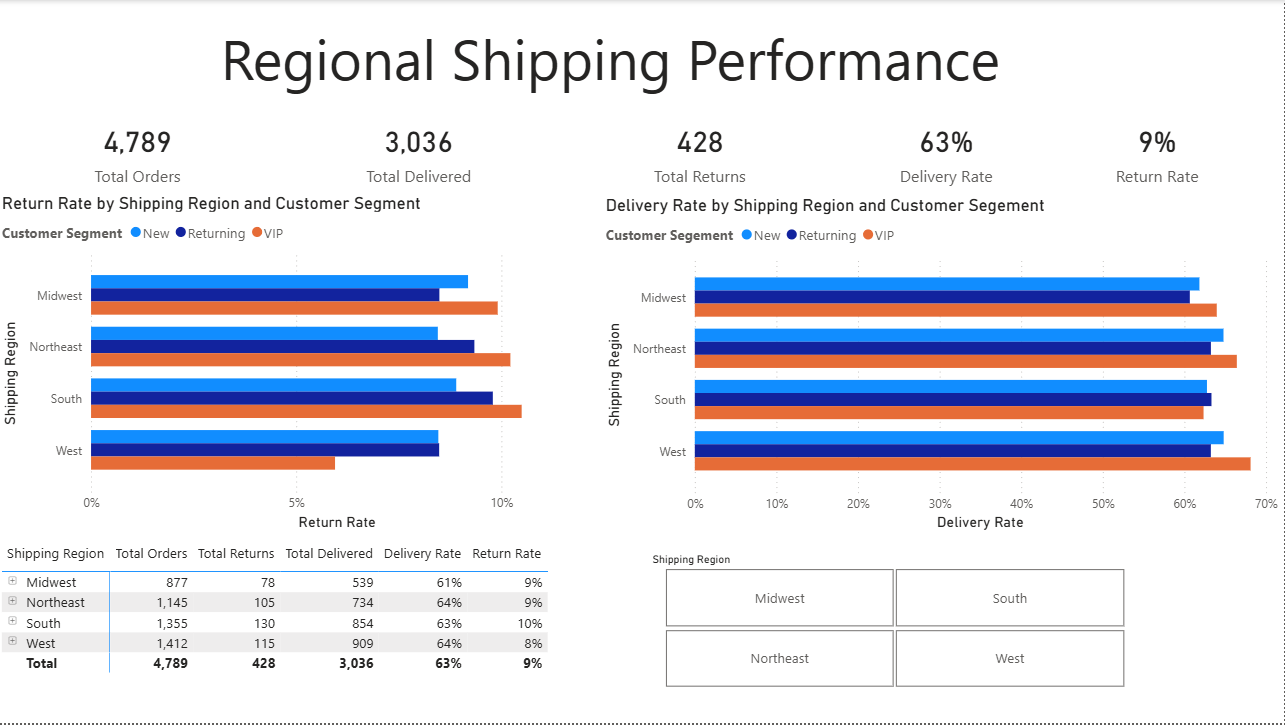

The dashboard page shown, as its layout file describes it:
{"tool":"powerbi","page":{"name":"Regional Shipping Performance","canvas":[1280,720],"ordinal":3},"visuals":[{"type":"card","fields":{"Values":["Measures (3).Total Orders"]},"box":[0,108.8,280,83.8],"z":0},{"type":"card","fields":{"Values":["Measures (3).Total Delivered"]},"box":[280,108.8,280,83.8],"z":1000},{"type":"card","fields":{"Values":["Measures (3).Total Returns"]},"box":[560,108.8,280,83.8],"z":2000},{"type":"card","fields":{"Values":["Measures (3).Delivery Rate"]},"box":[805,108.8,280,83.8],"z":3000},{"type":"card","fields":{"Values":["Measures (3).Return Rate"]},"box":[1085,108.8,140,83.8],"z":4000},{"type":"textbox","box":[217.5,13.8,810,105],"z":5000},{"type":"slicer","fields":{"Values":["orders.shipping_region"]},"box":[623,288.2,252.5,141.3],"z":6000},{"type":"pivotTable","fields":{"Rows":["orders.shipping_region","orders.customer_segment","products.product_category"],"Values":["Measures (3).Total Orders","Measures (3).Total Returns","Measures (3).Total Delivered","Measures (3).Delivery Rate","Measures (3).Return Rate"]},"box":[0,534.9,559.8,185.3],"z":7000},{"type":"clusteredBarChart","fields":{"Category":["orders.shipping_region"],"Y":["Measures (3).Return Rate"],"Series":["orders.customer_segment"]},"box":[0,191.6,600.8,340.8],"z":8000},{"type":"clusteredBarChart","fields":{"Category":["orders.shipping_region"],"Y":["Measures (3).Delivery Rate"],"Series":["orders.customer_segment"]},"box":[601,193.5,679.2,338.9],"z":9000},{"type":"slicer","fields":{"Values":["orders.shipping_region"]},"box":[639.4,544.9,506.3,145.5],"z":10000}]}

Visuals, with their boxes in screenshot pixels (x1, y1, x2, y2), scaled from the page's 1280x720 canvas onto the 1285x725 screenshot:
card - Measures (3).Total Orders: rect(0, 110, 281, 194)
card - Measures (3).Total Delivered: rect(281, 110, 562, 194)
card - Measures (3).Total Returns: rect(562, 110, 843, 194)
card - Measures (3).Delivery Rate: rect(808, 110, 1089, 194)
card - Measures (3).Return Rate: rect(1089, 110, 1230, 194)
textbox: rect(218, 14, 1032, 120)
slicer - orders.shipping_region: rect(625, 290, 879, 432)
pivotTable - orders.shipping_region x orders.customer_segment: rect(0, 539, 562, 724)
clusteredBarChart - orders.shipping_region x Measures (3).Return Rate: rect(0, 193, 603, 536)
clusteredBarChart - orders.shipping_region x Measures (3).Delivery Rate: rect(603, 195, 1284, 536)
slicer - orders.shipping_region: rect(642, 549, 1150, 695)
